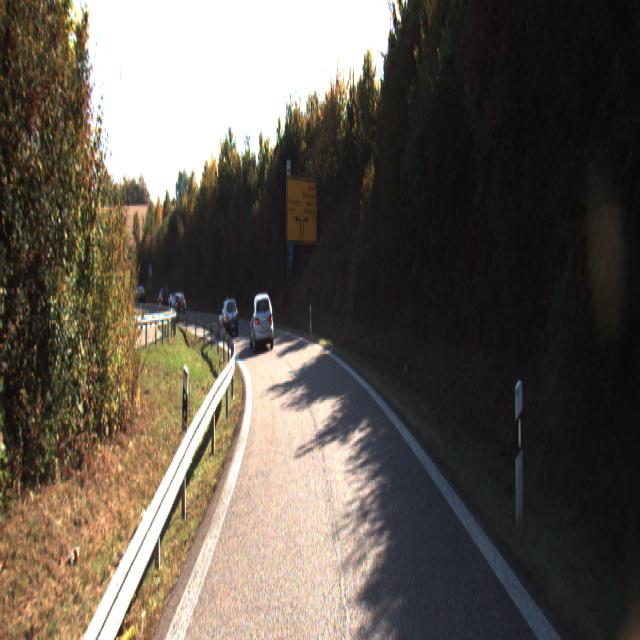Car: (250, 290, 274, 348), (218, 297, 240, 336), (168, 291, 187, 320)
